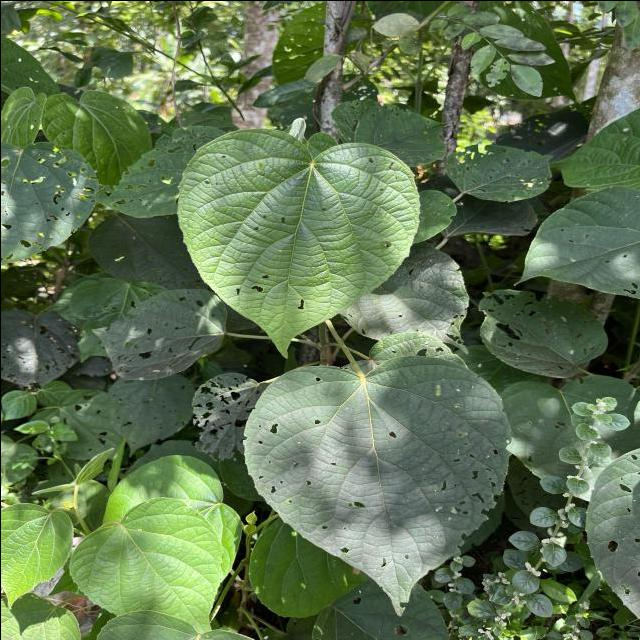Clerodendrum infortunatum: (237, 354, 515, 616), (170, 125, 422, 364), (68, 494, 224, 634)
